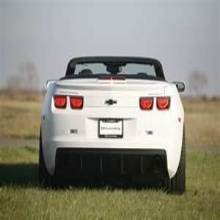no damage: (41, 55, 187, 196)
